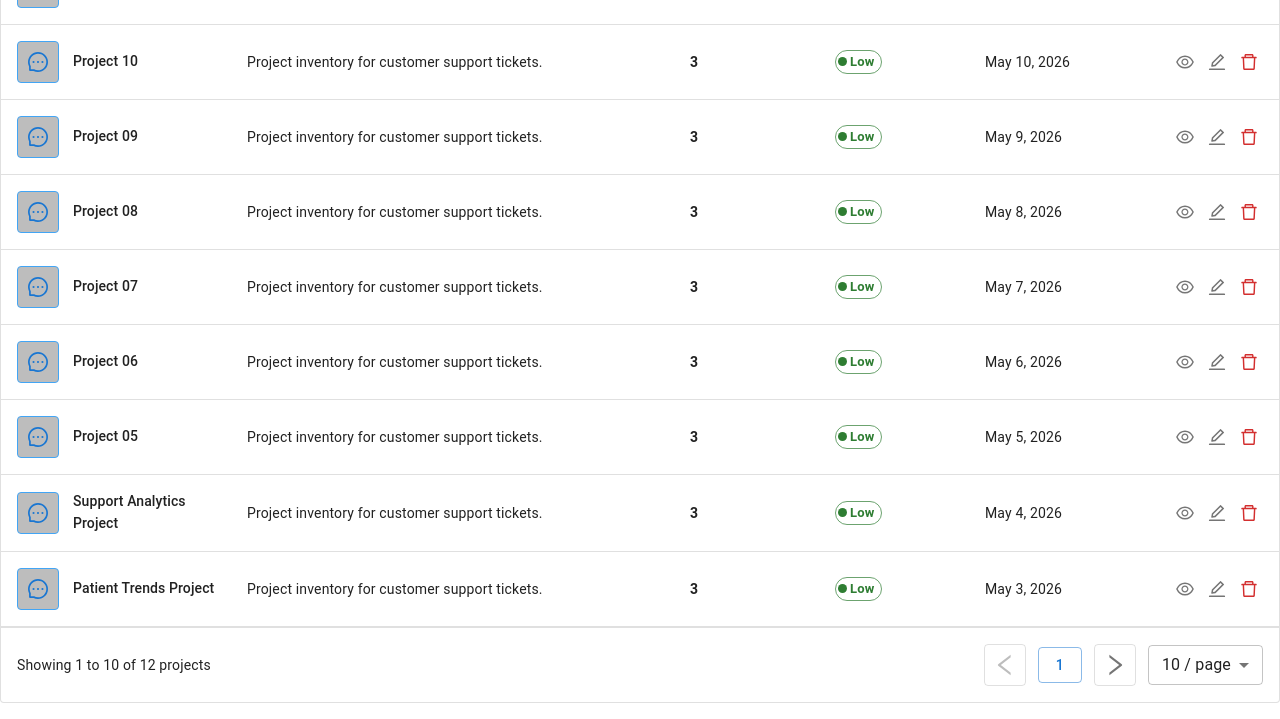
Projects page › paginates projects with the selected page size
The width and height of the screenshot is (1280, 719).
(page scrolled)
Check: the text "Showing 1 to 10 of 12 projects" is shown, box [17,655,211,675]
Check: the text "Invoices Project" is not shown
Click the button named "Next page": x=1115, y=665 [1094,644,1136,686]
(page scrolled)
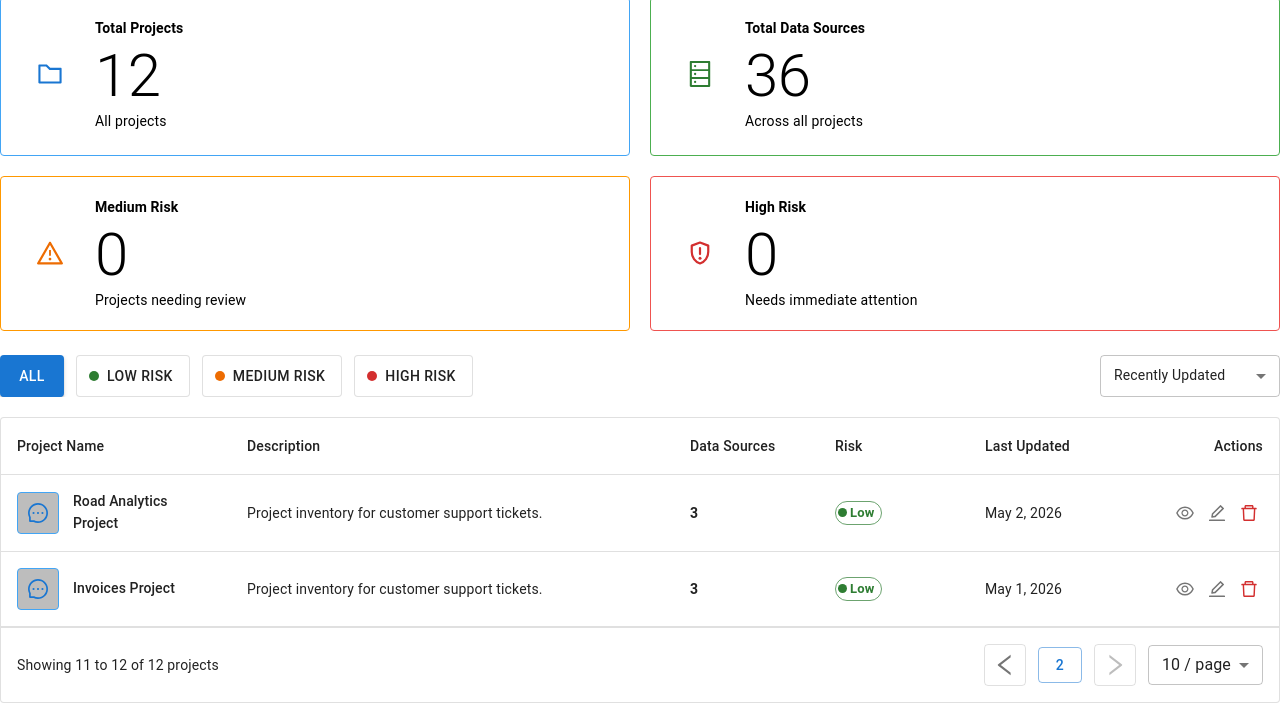
Check: the text "Showing 11 to 12 of 12 projects" is shown, box [17,655,219,675]
Check: the heading "Invoices Project" is shown, box [73,578,175,600]
